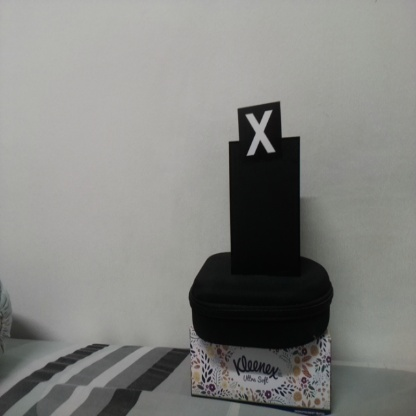id_13: (237, 106, 284, 167)
